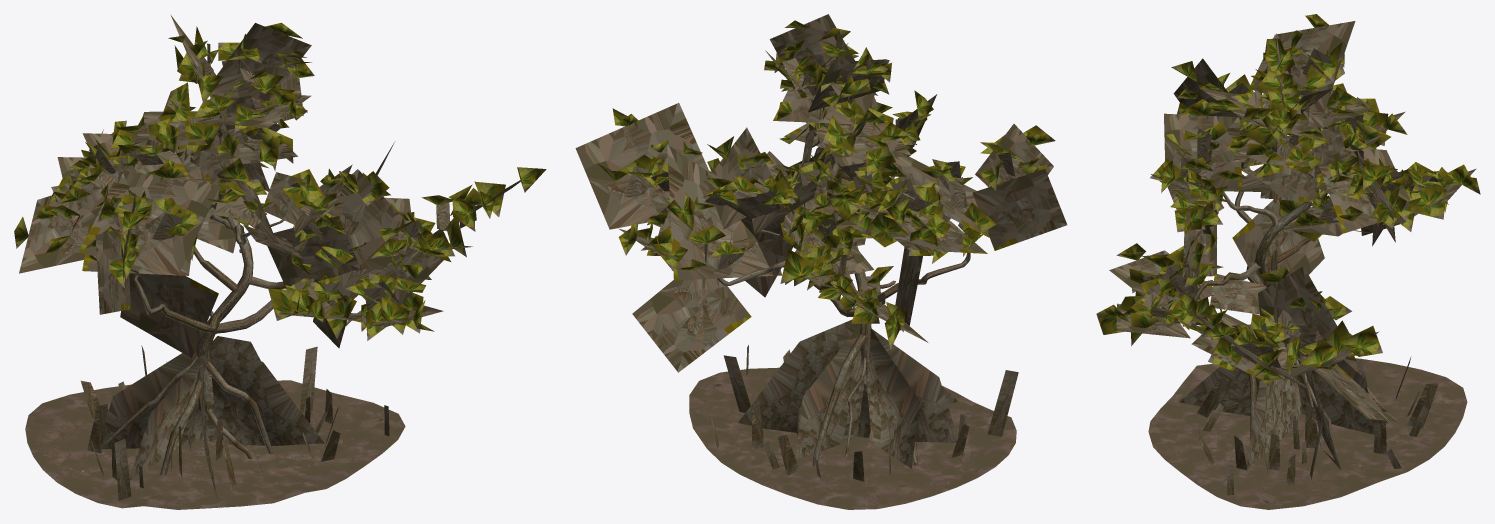
File: mangrove_tree.glb
3 views of the same model, side by side, from view 1: azimuth 30°, elevation 25°; view 2: azimuth 150°, elevation 25°; view 3: azimuth 270°, elevation 25° (orthographic). The views are drawn at different scales.
Visible parts, largest first — view 1: SM_MangroveTree.001_0, Plane_2; view 2: SM_MangroveTree.001_0, Plane_2; view 3: SM_MangroveTree.001_0, Plane_2.
Part boxes in pixels (x1=…): SM_MangroveTree.001_0: x1=14, y1=14, x2=546, y2=508; Plane_2: x1=25, y1=380, x2=405, y2=509; SM_MangroveTree.001_0: x1=575, y1=14, x2=1067, y2=481; Plane_2: x1=689, y1=367, x2=1016, y2=509; SM_MangroveTree.001_0: x1=1096, y1=14, x2=1480, y2=495; Plane_2: x1=1148, y1=358, x2=1467, y2=509.
Bounding box in the file's own units: 14.43 × 12.65 × 10.37.
3 materials, 3 textured.
